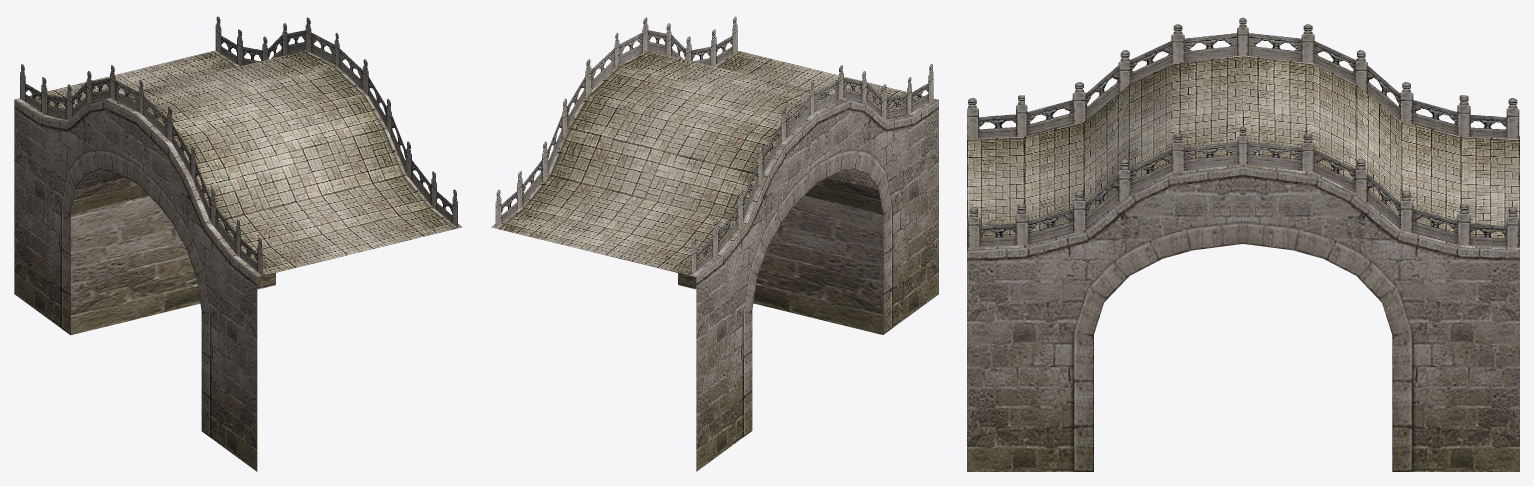
Rendered from cj_adult_brg.glb.
The picture shows the model from 3 angles, left to right: view 1: azimuth 30°, elevation 25°; view 2: azimuth 150°, elevation 25°; view 3: azimuth 270°, elevation 25°; orthographic projection. The views are drawn at different scales.
Visible parts, largest first — view 1: CJ_adult_brg01, CJ_adult_brg02, CJ_adult_brg_fence; view 2: CJ_adult_brg01, CJ_adult_brg02, CJ_adult_brg_fence; view 3: CJ_adult_brg01, CJ_adult_brg02, CJ_adult_brg_fence.
Boxes of the visible parts, x1,y1,x2,y2 form: CJ_adult_brg01: (14,99,275,471); CJ_adult_brg02: (15,50,461,277); CJ_adult_brg_fence: (20,16,457,275); CJ_adult_brg01: (678,99,938,471); CJ_adult_brg02: (491,50,938,277); CJ_adult_brg_fence: (495,16,933,275); CJ_adult_brg01: (967,166,1519,471); CJ_adult_brg02: (967,55,1519,250); CJ_adult_brg_fence: (967,17,1519,247).
Bounding box in the file's own units: 5.52 × 7.82 × 11.3.
3 materials, 3 textured.
